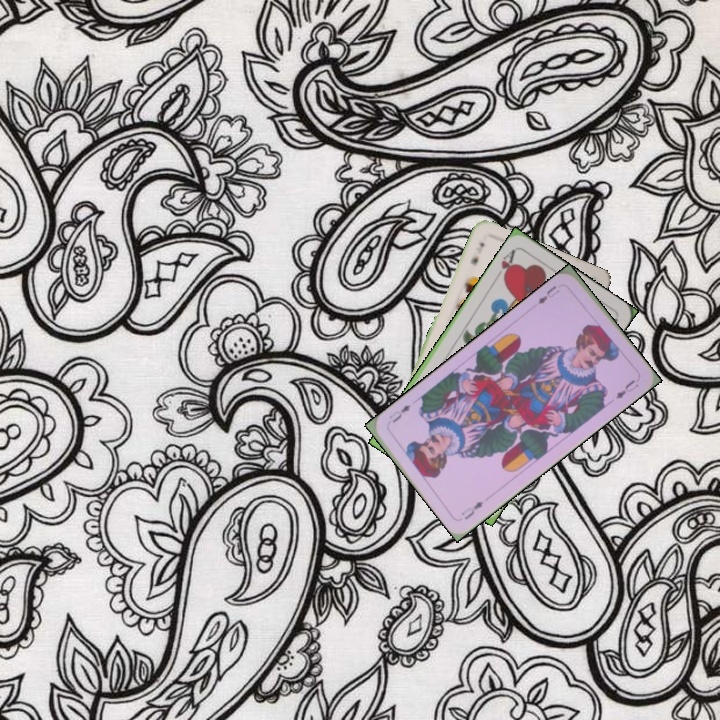E7: (466, 238, 487, 267)
EU: (533, 281, 562, 307), (457, 497, 486, 523)
HA: (491, 245, 518, 282)
